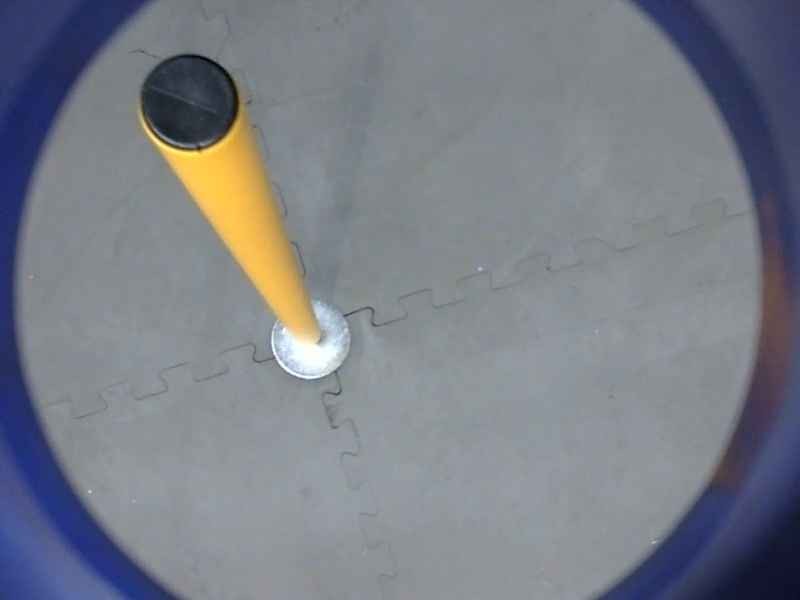tip: (132, 48, 246, 157)
